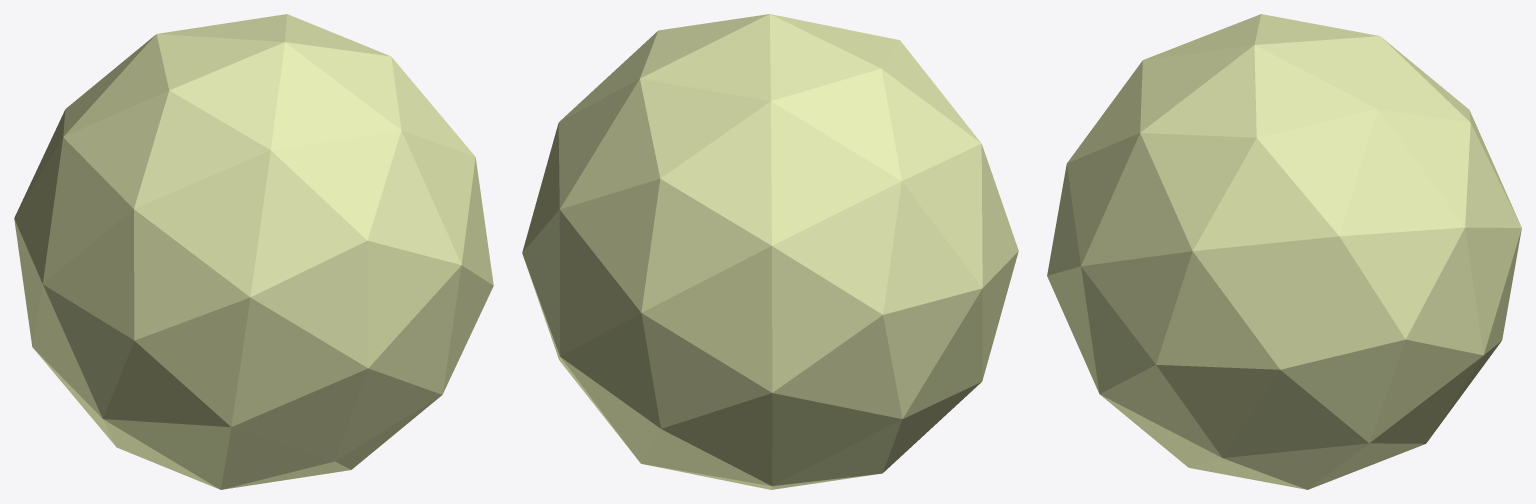
File: JavaScriptBall.glb
3 views of the same model, side by side, from view 1: azimuth 30°, elevation 25°; view 2: azimuth 150°, elevation 25°; view 3: azimuth 270°, elevation 25° (orthographic). The views are drawn at different scales.
Parts seen in each view (by area): view 1: Icosphere, Icosphere.001; view 2: Icosphere, Icosphere.001; view 3: Icosphere.001, Icosphere.
Boxes of the visible parts, bbox=[...] form: Icosphere: bbox=[14, 90, 493, 489]; Icosphere.001: bbox=[63, 14, 475, 156]; Icosphere: bbox=[522, 40, 1018, 489]; Icosphere.001: bbox=[522, 14, 901, 356]; Icosphere.001: bbox=[1140, 14, 1521, 369]; Icosphere: bbox=[1047, 60, 1521, 489].
Size of the model in its own units: 1.99 by 1.98 by 1.98.
